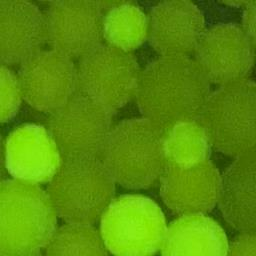negative: (136, 53, 212, 122), (104, 116, 164, 192), (50, 158, 114, 228), (74, 47, 140, 114), (202, 77, 256, 157), (48, 93, 110, 158), (43, 0, 106, 59), (199, 23, 256, 87), (143, 0, 205, 58), (219, 145, 256, 239), (19, 52, 77, 111), (159, 161, 220, 216), (0, 0, 49, 61), (47, 218, 109, 256), (238, 4, 256, 49), (216, 0, 256, 10)
positive: (0, 178, 57, 256), (100, 194, 166, 256), (5, 121, 64, 186), (159, 209, 229, 256), (102, 2, 151, 53), (162, 120, 210, 170), (0, 59, 23, 124)
